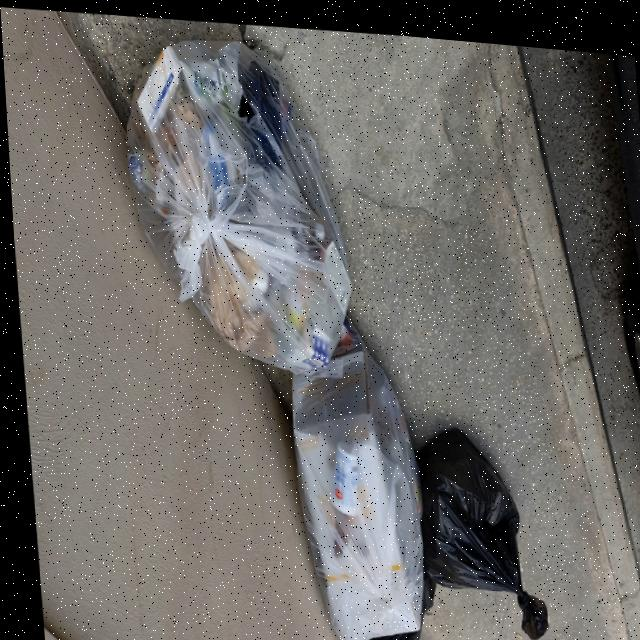Mixed Waste -Black Bag-: (407, 413, 543, 634), (349, 556, 434, 640)
Recycled Waste -Grey or Green Bag-: (116, 22, 355, 378), (281, 298, 426, 640)
